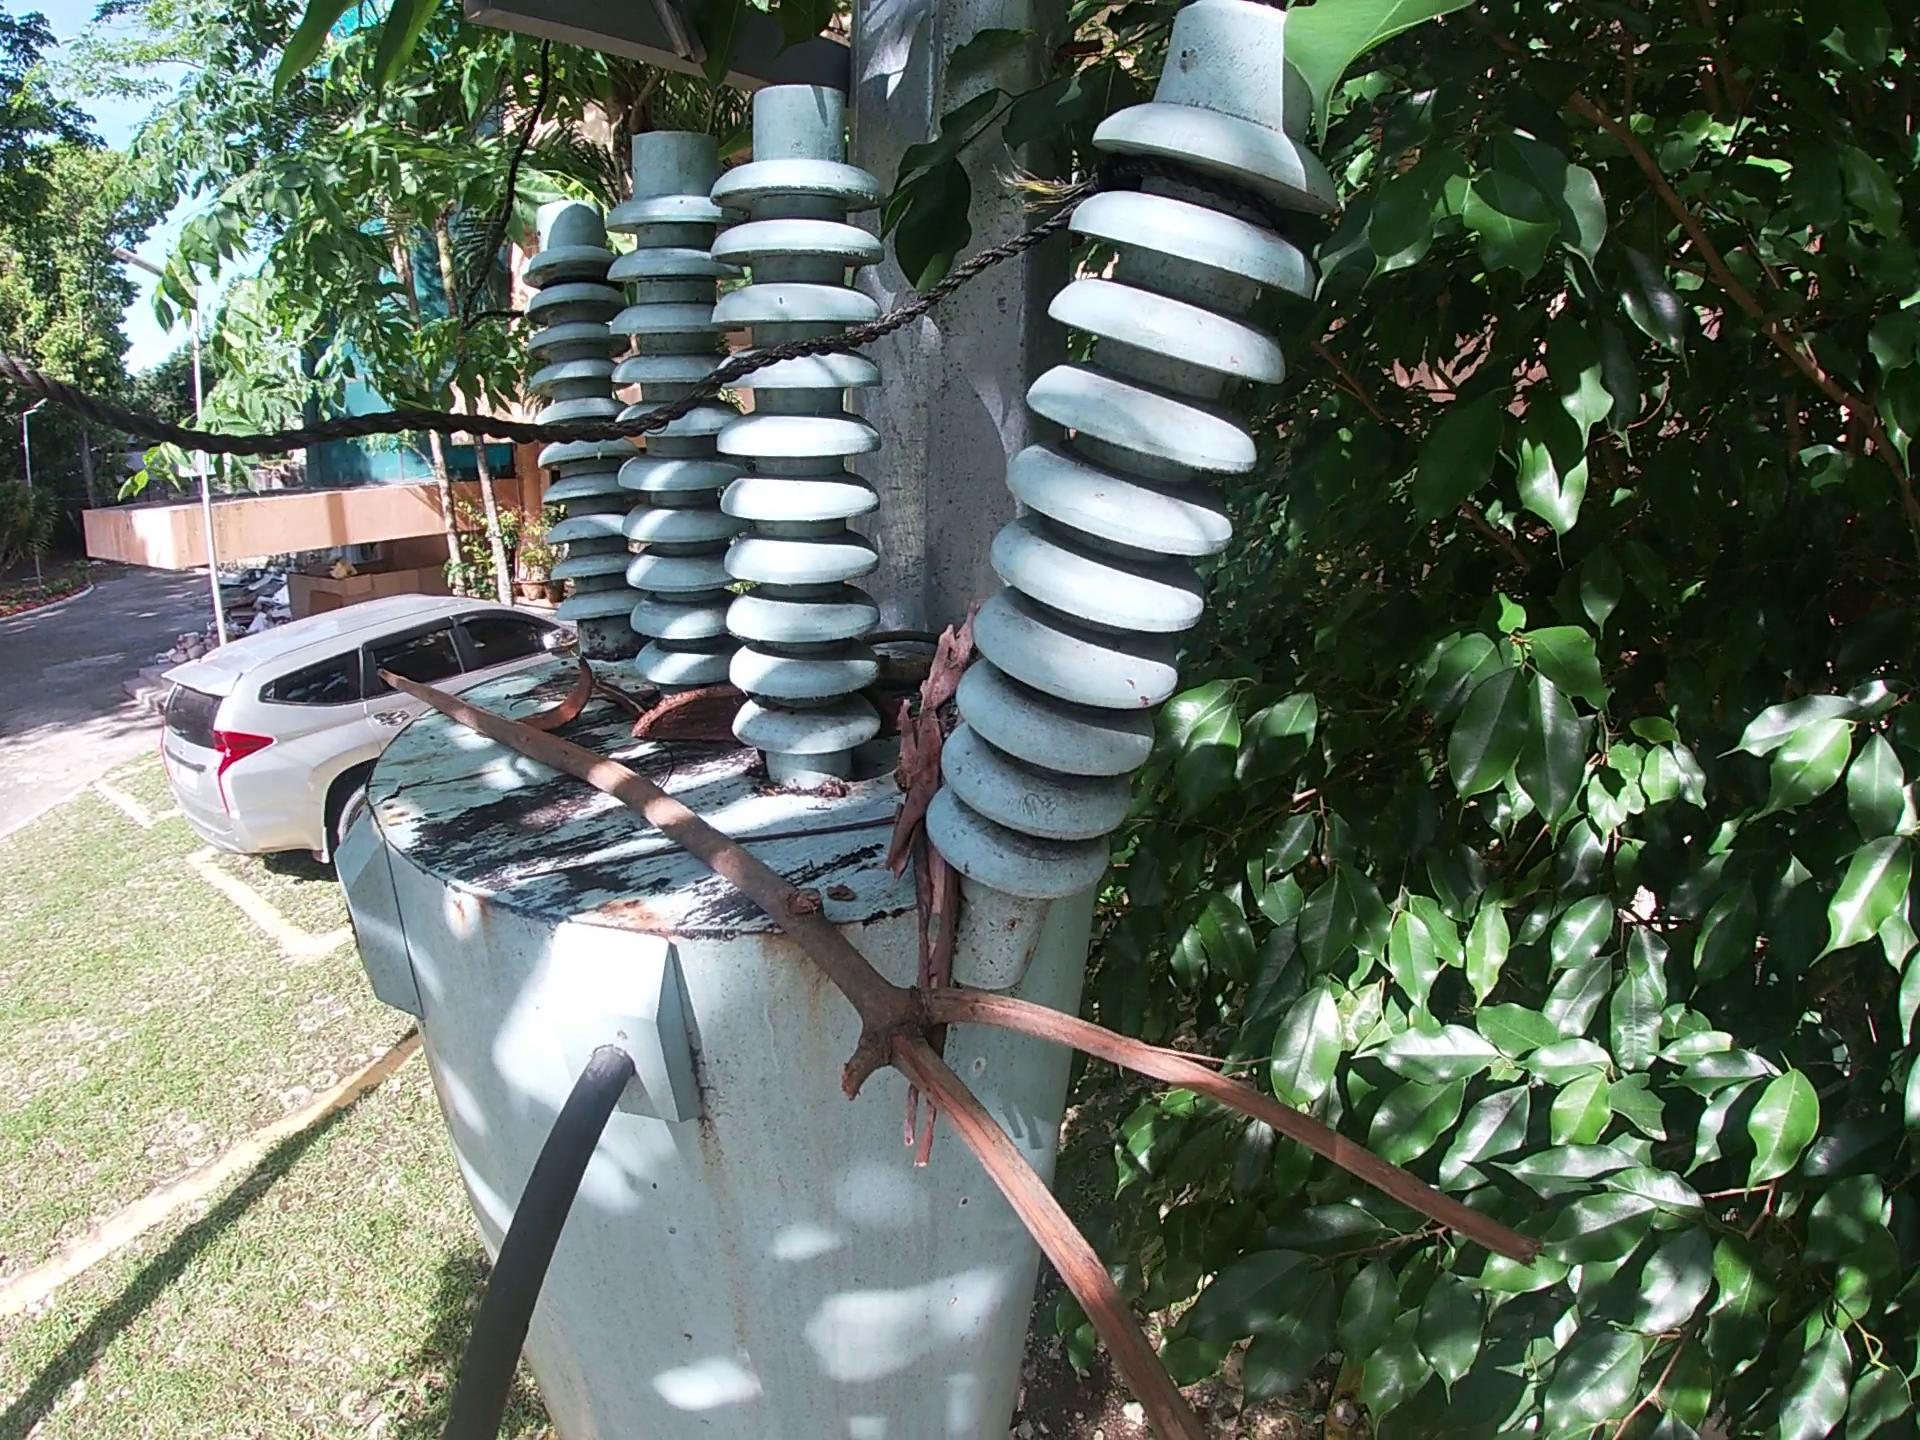mahogany fruit: (621, 681, 757, 761), (509, 650, 609, 741)
tree branch: (358, 663, 1548, 1440), (880, 613, 987, 1184), (871, 626, 955, 655)
